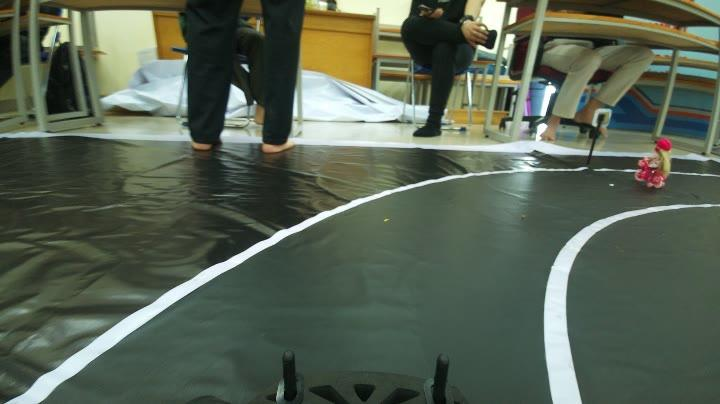pedestrian: (637, 134, 674, 190)
